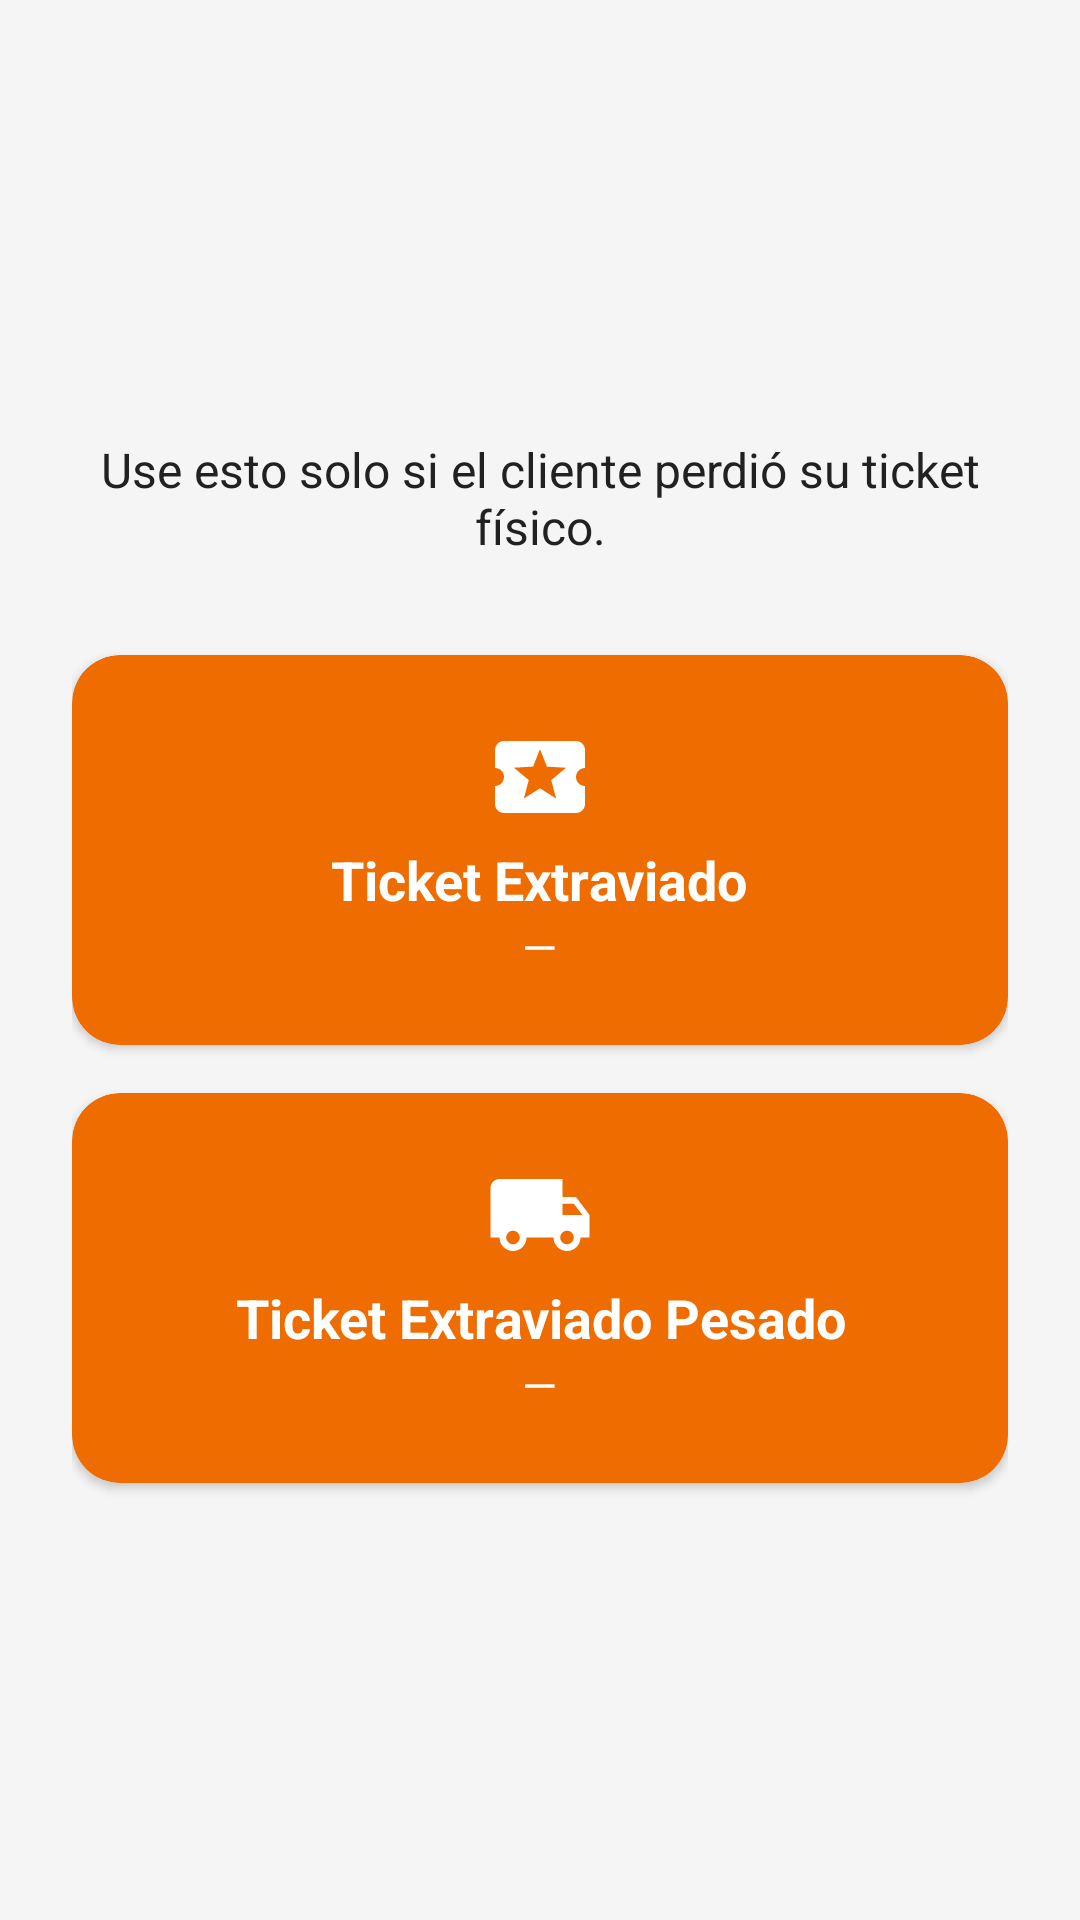

Named icons in this screenshot (1080px×1920px) and their centers, (x,y):
truck: (540,1215)
